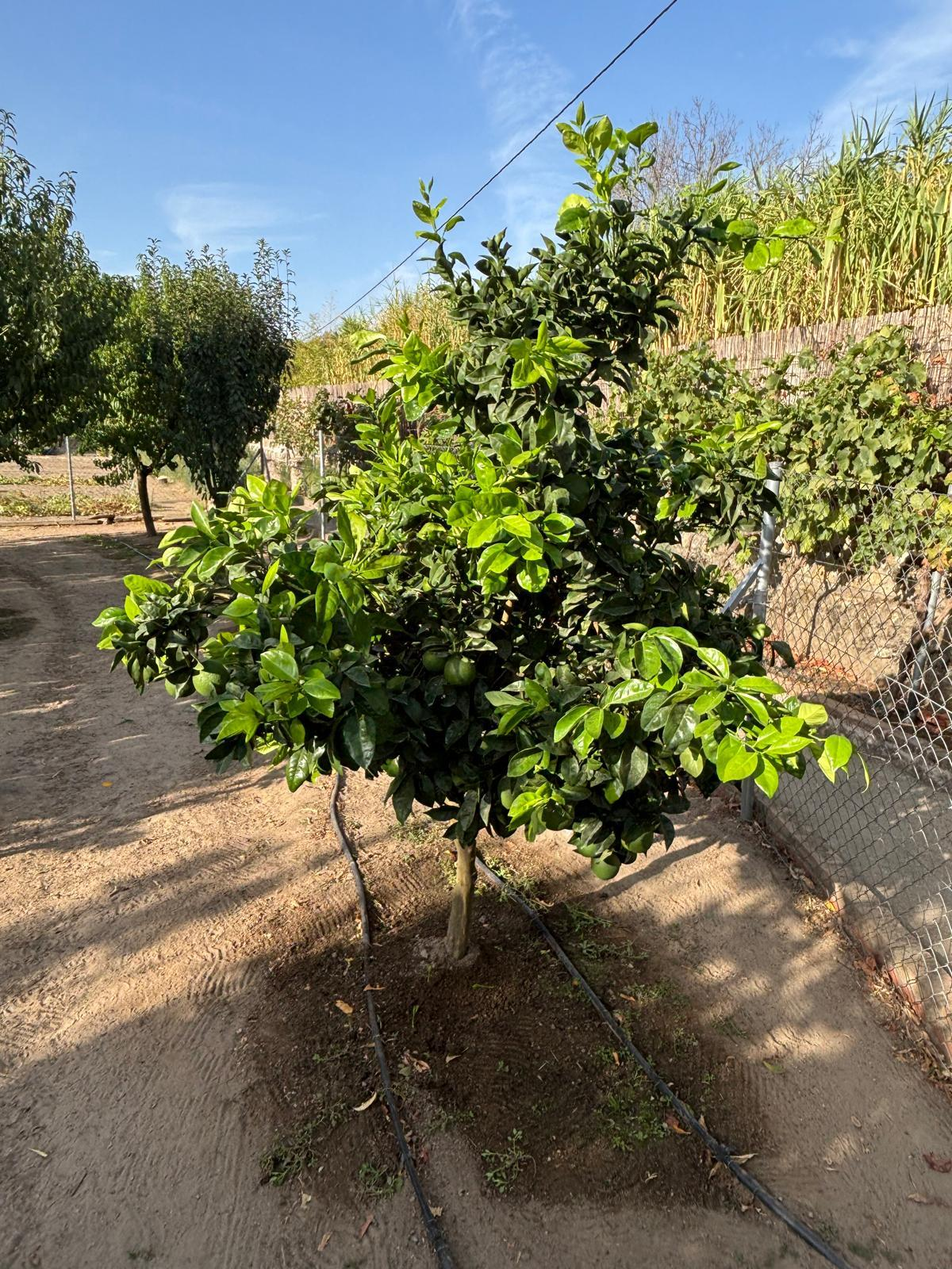naranjo: (164, 355, 795, 1027)
